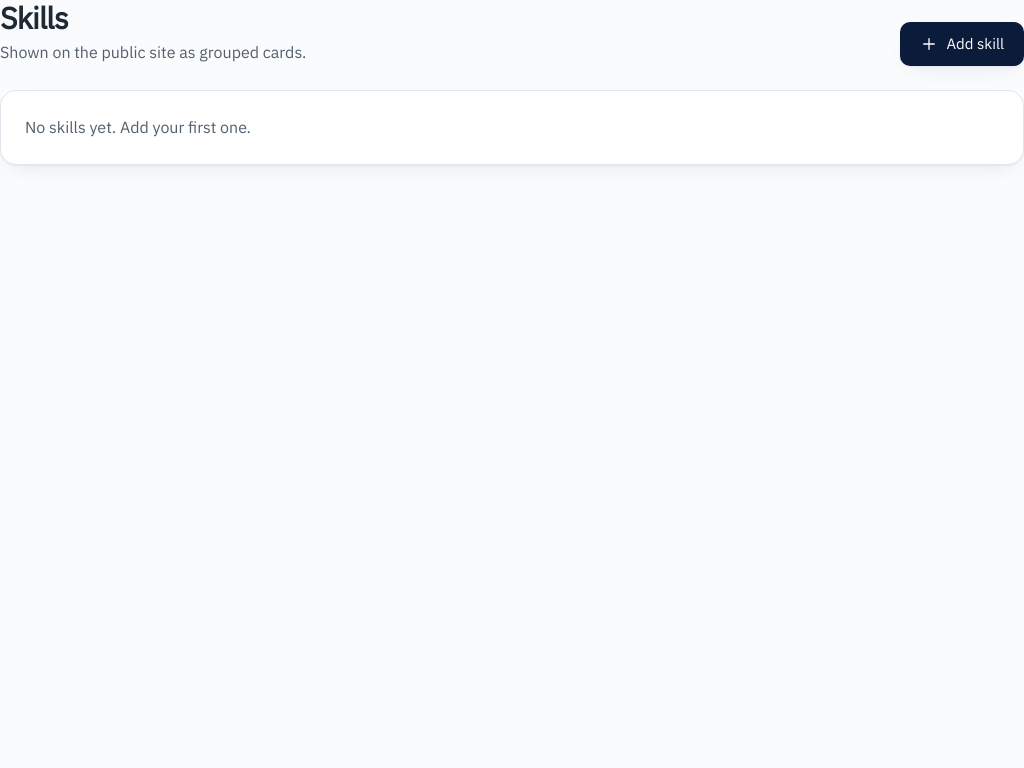
Test: SkillsPage (config-driven CRUD) › creates a skill with a correctly shaped request, confirms with a toast and refreshes the list
Click the button "Add skill".
click(962, 44)  # box [900, 22, 1023, 66]
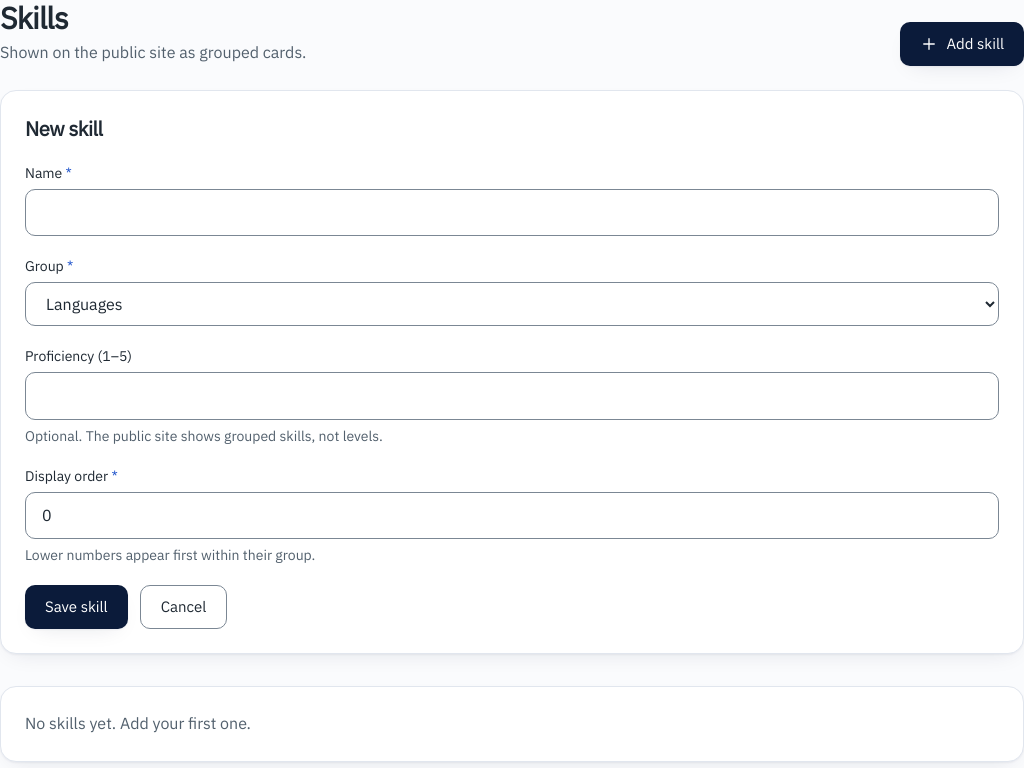
Type "  Docker " into the field labelled "Name".
click(512, 212); type("  Docker ")  # box [25, 189, 999, 236]
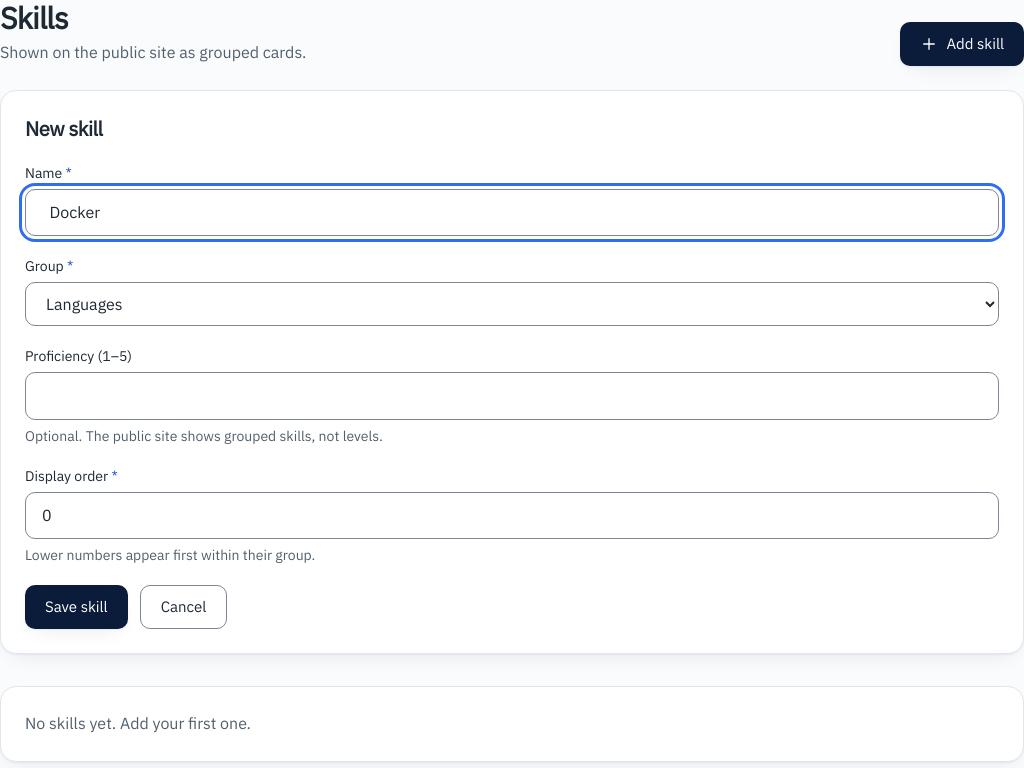
Select "DevOps" in the dropdown labelled "Group" at (512, 304), box [25, 282, 999, 326]
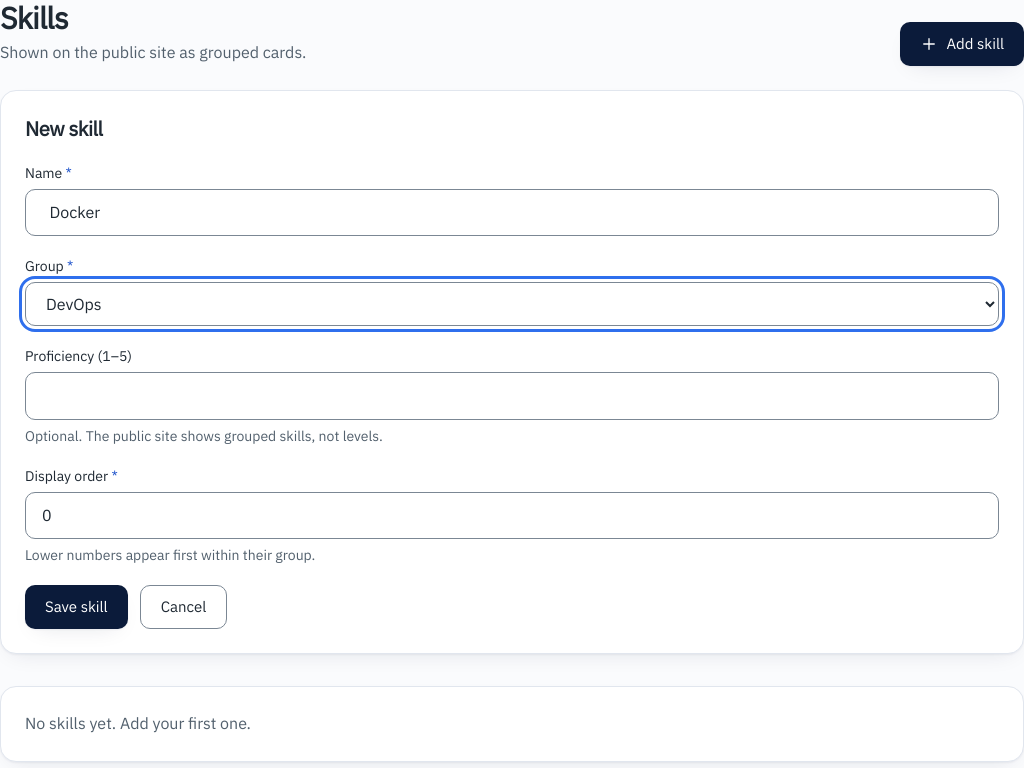
Click the button "Save skill".
click(76, 607)  # box [25, 585, 128, 629]
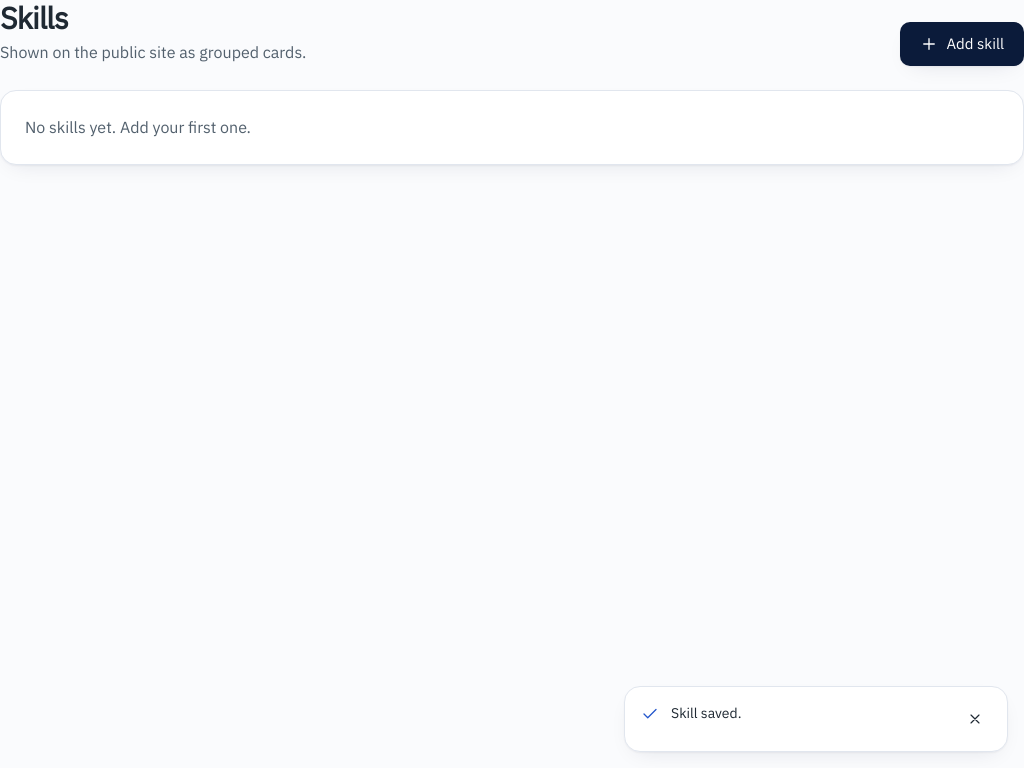
Expected: the message reads "Skill saved.", [671, 704, 741, 722]
Expected: the heading "New skill" is gone
